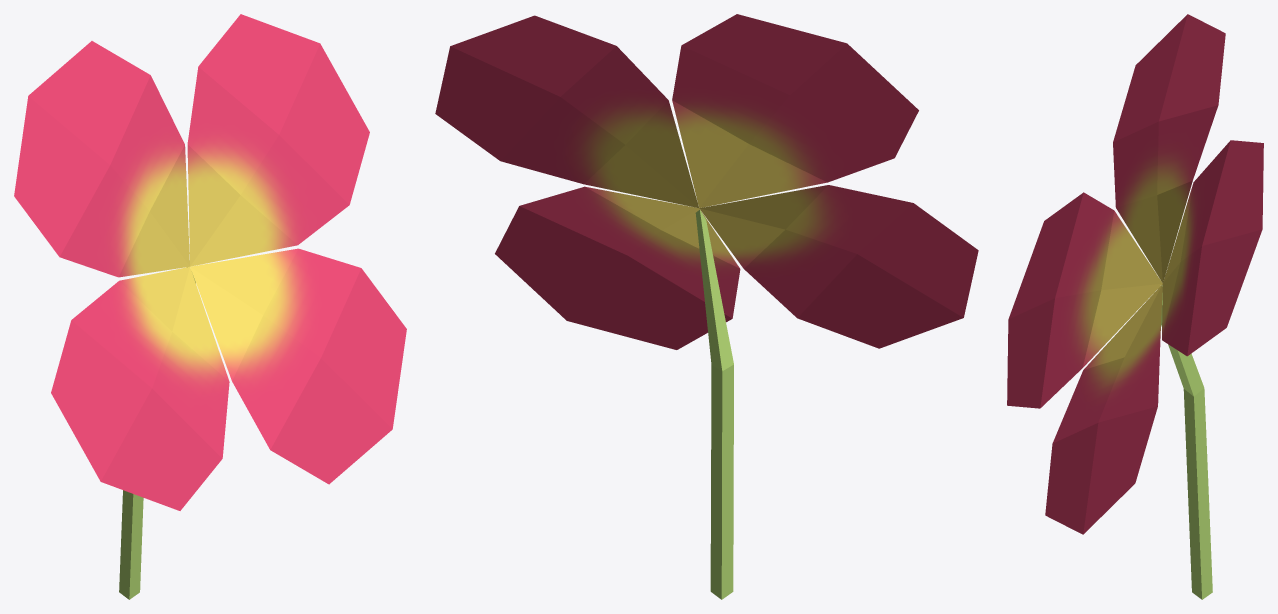
Rendered from Flower_c_OneS_04.fbx.
3 views of the same model, side by side, from view 1: azimuth 30°, elevation 25°; view 2: azimuth 150°, elevation 25°; view 3: azimuth 270°, elevation 25° (orthographic). The views are drawn at different scales.
Visible parts, largest first — view 1: Flower_c_OneS_04; view 2: Flower_c_OneS_04; view 3: Flower_c_OneS_04.
Part boxes in pixels (x1,y1,x2,y2): Flower_c_OneS_04: (14,14,406,599); Flower_c_OneS_04: (435,14,978,599); Flower_c_OneS_04: (1007,14,1263,599).
Bounding box in the file's own units: 27.42 × 35.19 × 14.92.
